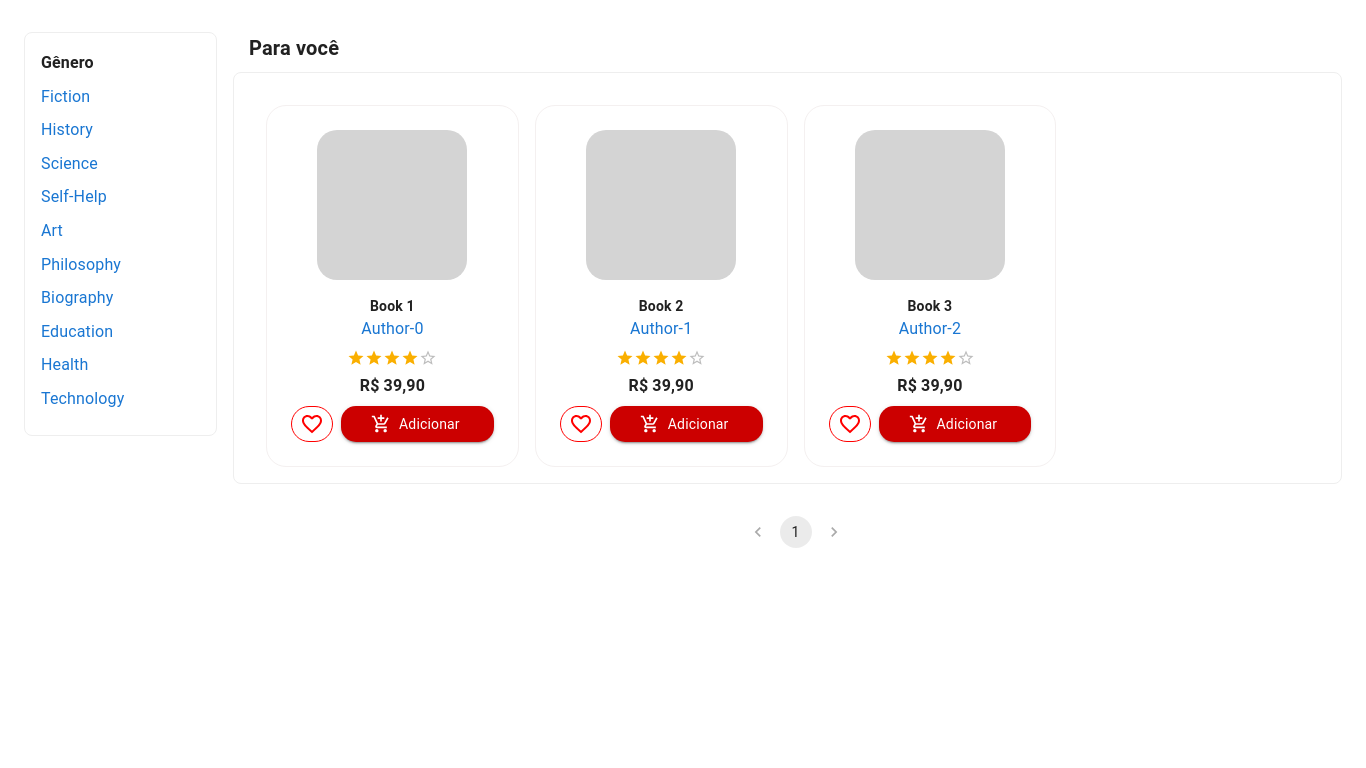
Scenario: BookStoreView › can filter books by author
What coordinates should you click on to do the following:
click the button with test id "author-btn-0"
I would click on:
 (392, 329)
Its box is left=361, top=317, right=424, bottom=341.
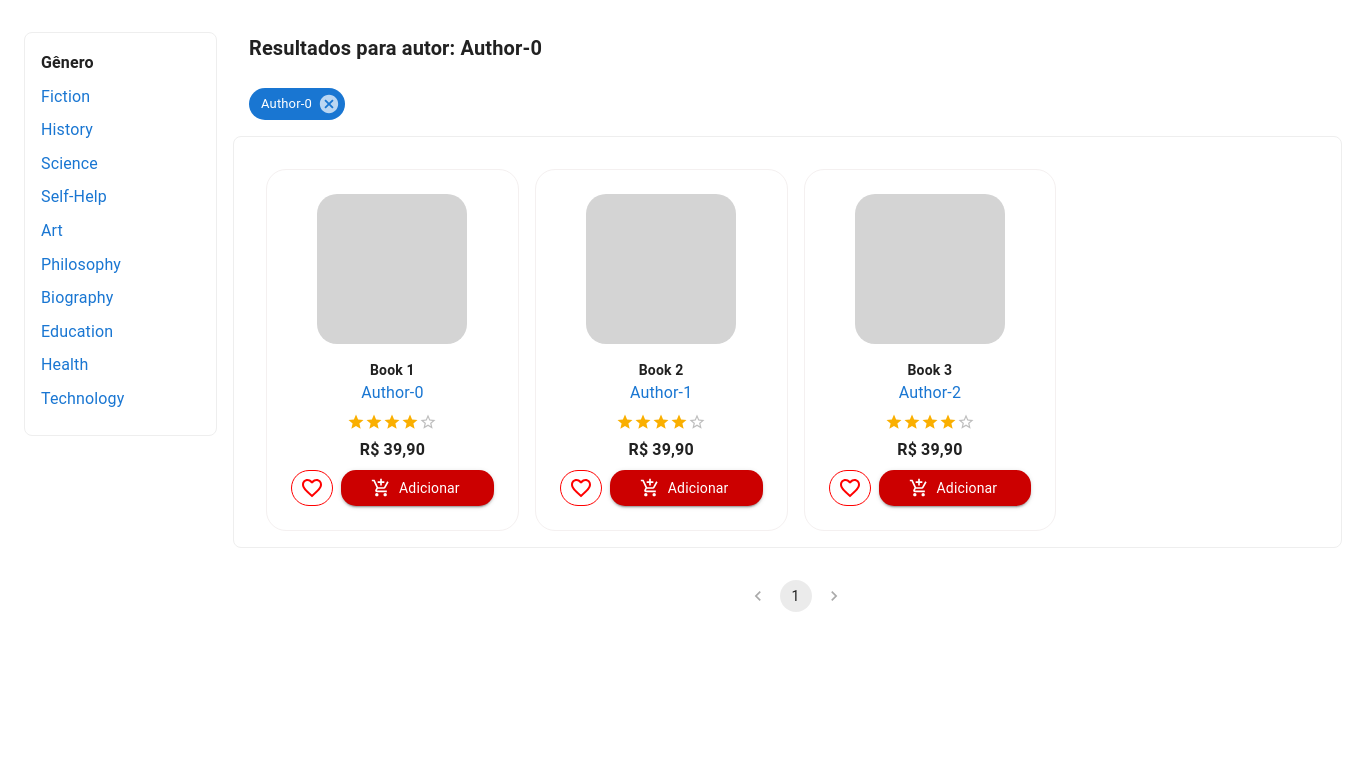
Now the heading "Resultados para autor: Author-0" is shown, box left=249, top=36, right=542, bottom=60
